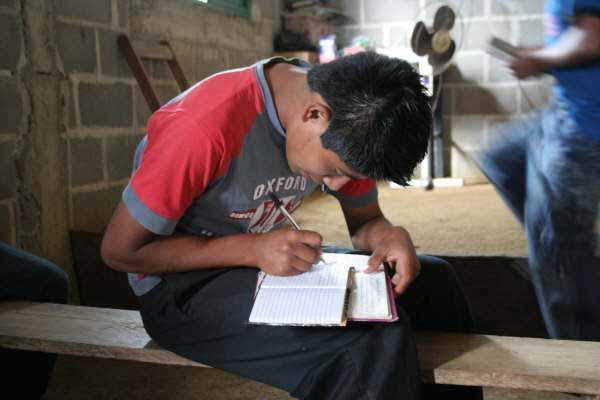person: (101, 51, 453, 400)
